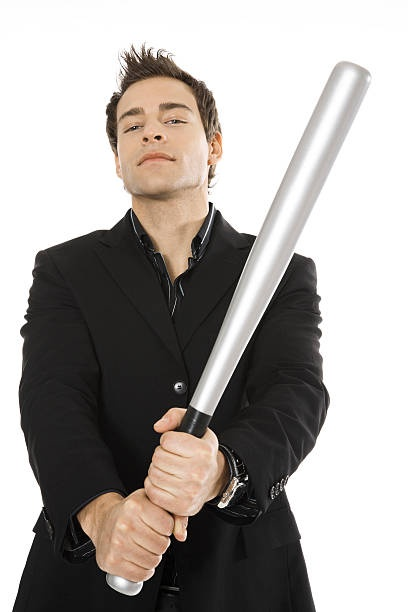bita: (172, 68, 375, 461)
